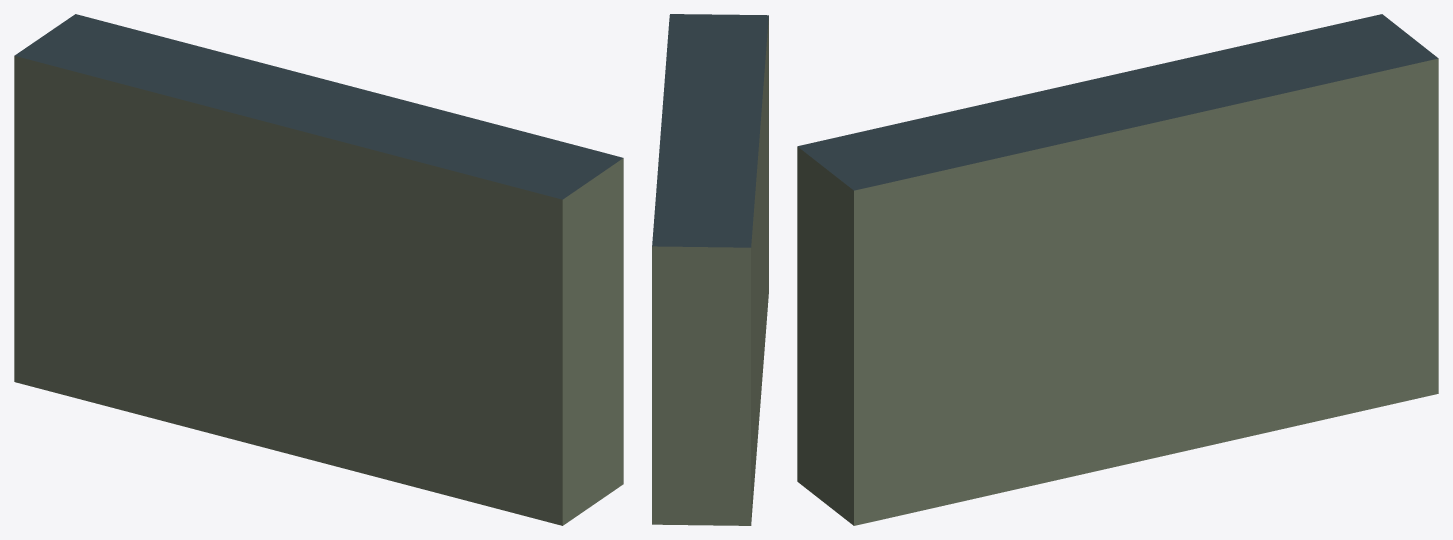
Rendered from nyc-1022648-0.glb.
3 views of the same model, side by side, from view 1: azimuth 30°, elevation 25°; view 2: azimuth 150°, elevation 25°; view 3: azimuth 270°, elevation 25° (orthographic). The views are drawn at different scales.
Visible parts, largest first — view 1: nyc-1022648-0; view 2: nyc-1022648-0; view 3: nyc-1022648-0.
Boxes of the visible parts, bbox=[...] form: nyc-1022648-0: bbox=[14, 14, 623, 525]; nyc-1022648-0: bbox=[652, 14, 768, 525]; nyc-1022648-0: bbox=[797, 14, 1438, 525].
Bounding box in the file's own units: 16.88 × 14.94 × 25.9.
